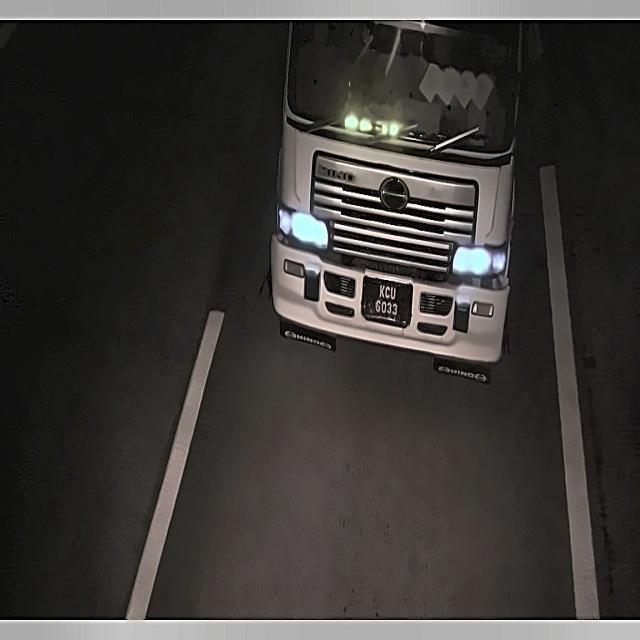car: (358, 267, 416, 331)
